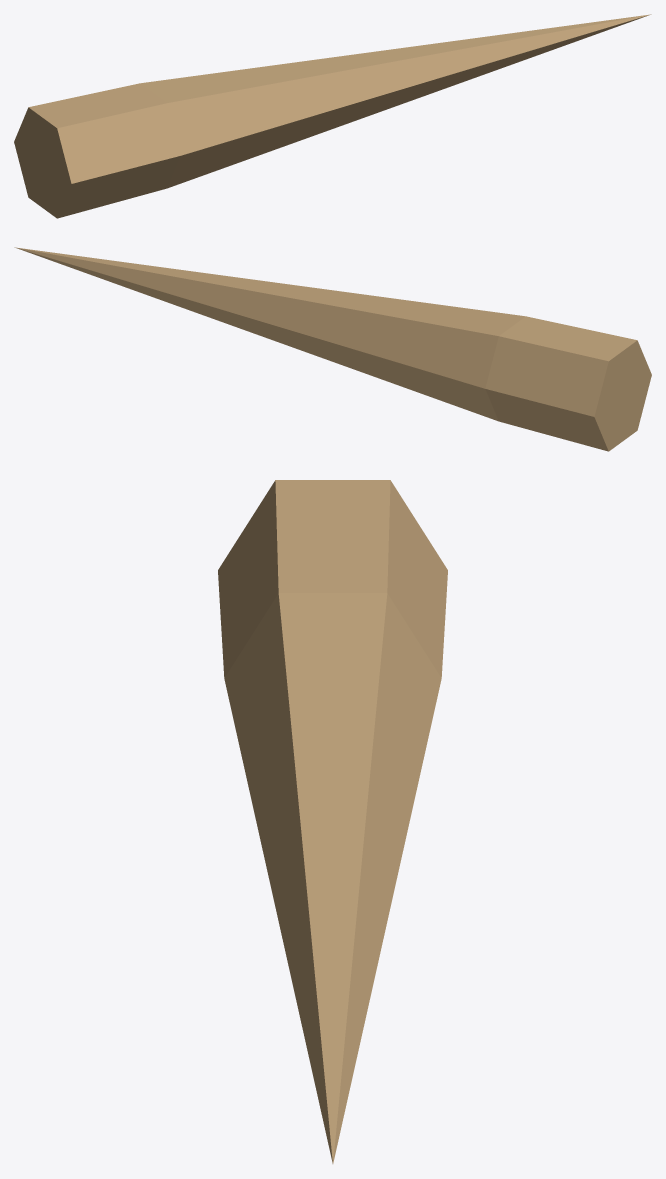
The model's file is prop-splicing-fid-rs1.fbx.
3 views of the same model, one above another, from view 1: azimuth 30°, elevation 25°; view 2: azimuth 150°, elevation 25°; view 3: azimuth 270°, elevation 25° (orthographic). The views are drawn at different scales.
Visible parts, largest first — view 1: prop-splicing-fid-rs1; view 2: prop-splicing-fid-rs1; view 3: prop-splicing-fid-rs1.
Part boxes in pixels (x1,y1,x2,y2): prop-splicing-fid-rs1: [14, 14, 651, 218]; prop-splicing-fid-rs1: [14, 247, 651, 451]; prop-splicing-fid-rs1: [218, 480, 447, 1163].
Size of the model in its own units: 22 by 3.12 by 3.6.
